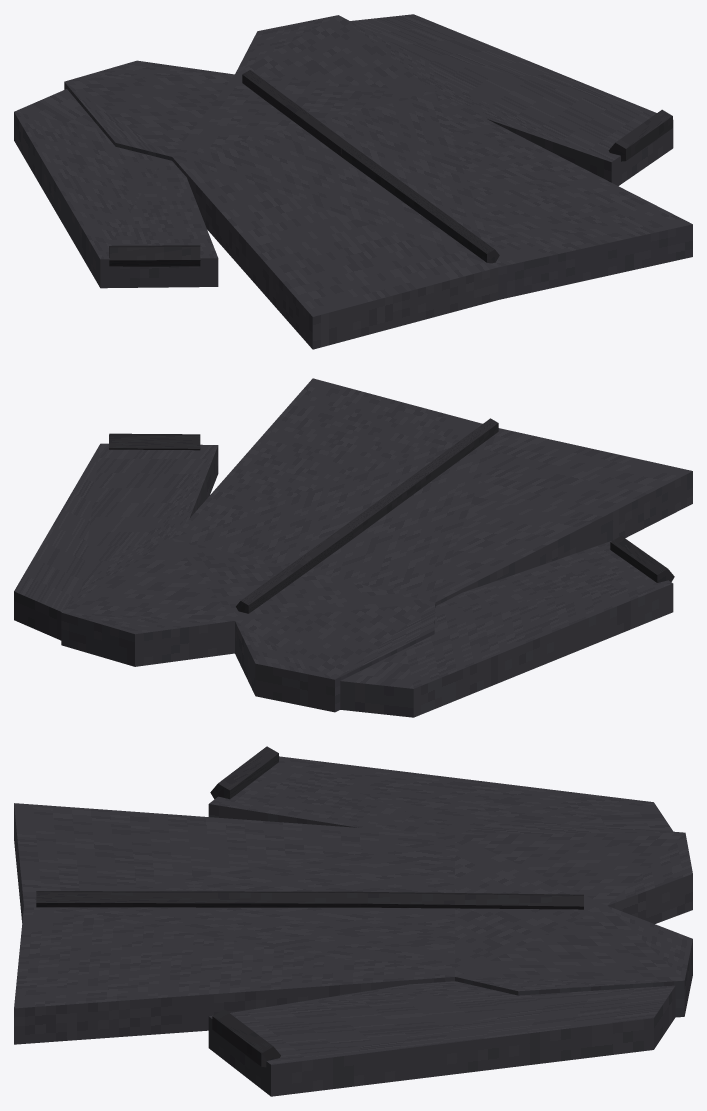
Rendered from abaya.glb.
The picture shows the model from 3 angles, top to bottom: view 1: azimuth 30°, elevation 25°; view 2: azimuth 150°, elevation 25°; view 3: azimuth 270°, elevation 25°; orthographic projection. The views are drawn at different scales.
Parts seen in each view (by area): view 1: block_garment body, block_sleeve (×2), block_cuff 0 (×2), block_front closure 1, block_front closure 0; view 2: block_garment body, block_sleeve (×2), block_front closure 1, block_cuff 0 (×2), block_front closure 0; view 3: block_garment body, block_sleeve (×2), block_front closure 1, block_front closure 0, block_cuff 0 (×2).
Part boxes in pixels (box(x1,y1,x2,y2)): block_garment body: box(64, 15, 692, 349); block_sleeve (×2): box(14, 14, 673, 288); block_cuff 0 (×2): box(109, 109, 672, 266); block_front closure 1: box(342, 144, 499, 263); block_front closure 0: box(242, 70, 349, 156); block_garment body: box(61, 378, 692, 712); block_sleeve (×2): box(14, 443, 673, 717); block_front closure 1: box(345, 418, 498, 538); block_cuff 0 (×2): box(109, 433, 674, 582); block_front closure 0: box(236, 525, 353, 613); block_garment body: box(14, 803, 692, 1044); block_sleeve (×2): box(208, 756, 675, 1096); block_front closure 1: box(36, 891, 357, 907); block_front closure 0: box(357, 891, 583, 909); block_cuff 0 (×2): box(210, 746, 280, 1067).
Size of the model in its own units: 0.5909 by 0.0453 by 0.5479.
Materials: 1 (1 with a texture image).
